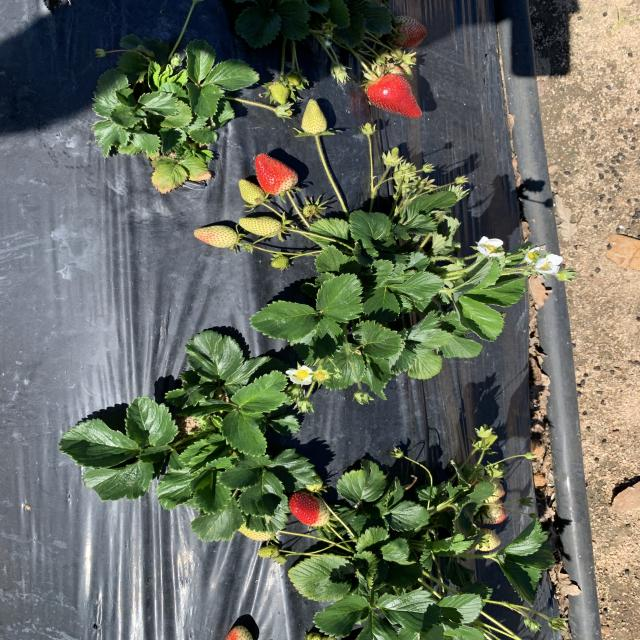unripe: (367, 74, 424, 119), (253, 152, 299, 197), (292, 494, 336, 528)
